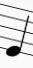E: (4, 3, 31, 60)
